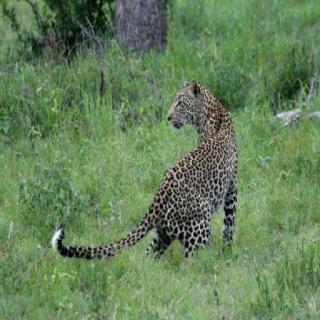Leopard: (145, 63, 264, 255)
